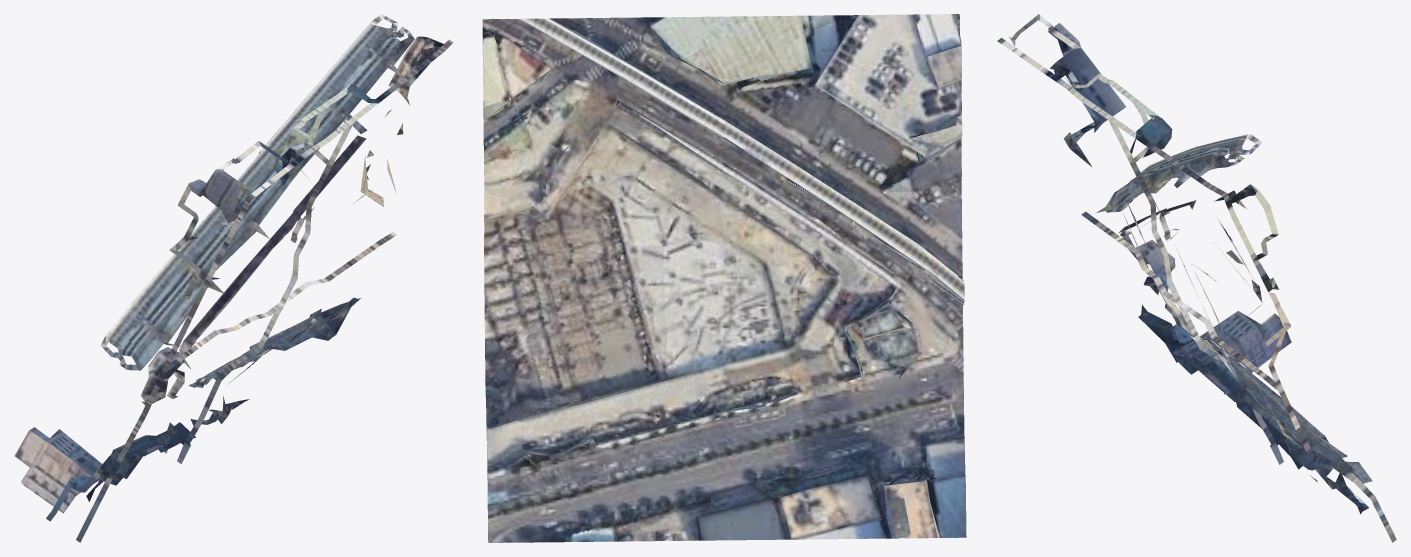
3 renders of one model, left to right at view 1: azimuth 30°, elevation 25°; view 2: azimuth 150°, elevation 25°; view 3: azimuth 270°, elevation 25°, orthographic. The views are drawn at different scales.
Size of the model in its own units: 158 by 148 by 128.
Materials: 2 (2 with a texture image).
